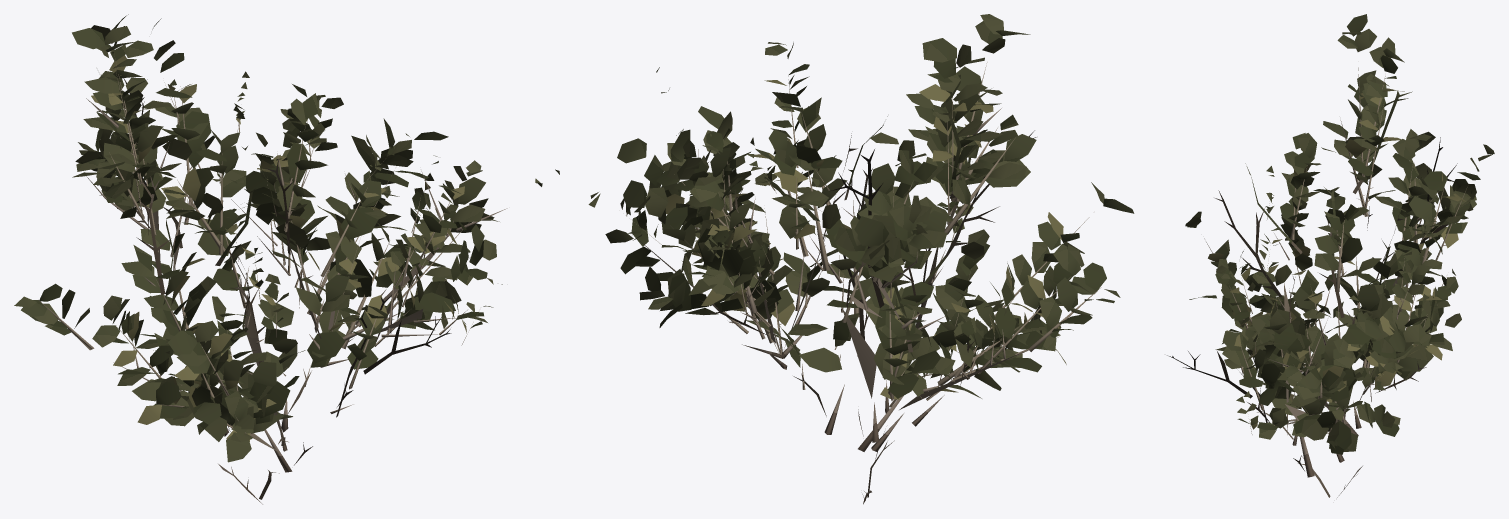
The model's file is ph_shrub_1.glb.
The picture shows the model from 3 angles, left to right: view 1: azimuth 30°, elevation 25°; view 2: azimuth 150°, elevation 25°; view 3: azimuth 270°, elevation 25°; orthographic projection. The views are drawn at different scales.
Parts seen in each view (by area): view 1: ph_shrub_1_lod1; view 2: ph_shrub_1_lod1; view 3: ph_shrub_1_lod1.
Boxes of the visible parts, x1,y1,x2,y2 form: ph_shrub_1_lod1: (14, 14, 559, 504); ph_shrub_1_lod1: (588, 14, 1134, 504); ph_shrub_1_lod1: (1167, 14, 1494, 497).
Size of the model in its own units: 1.03 by 1 by 0.7155.
3 materials, 3 textured.
